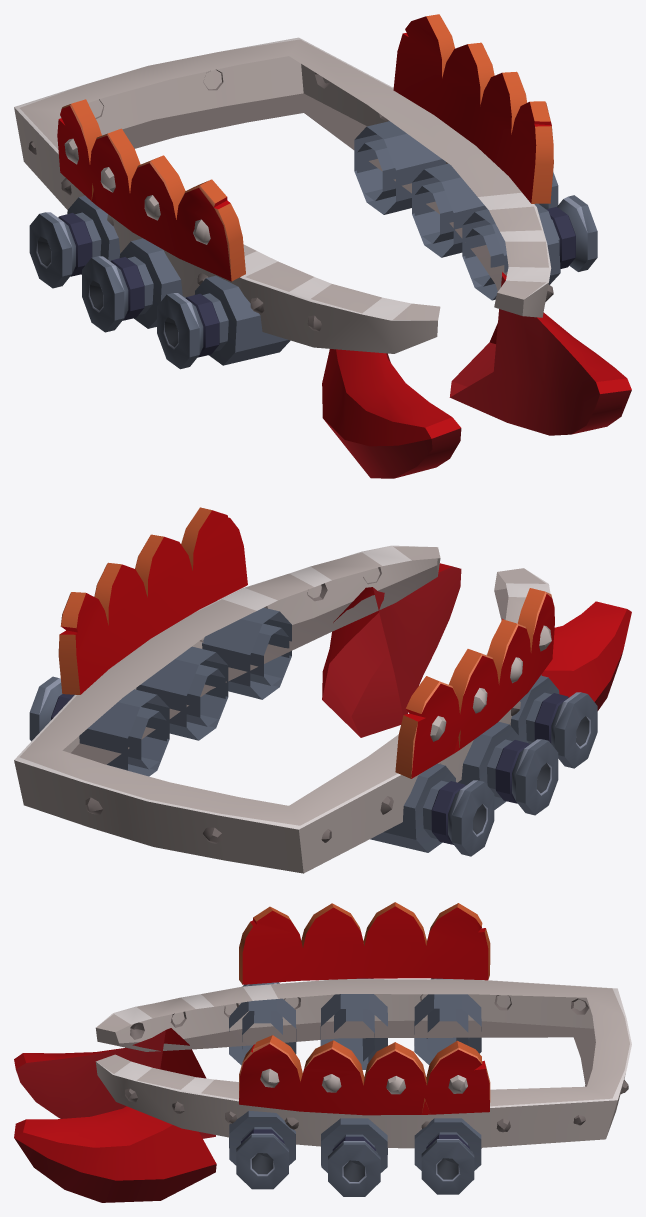
File: Armor_Medium.fbx
3 views of the same model, one above another, from view 1: azimuth 30°, elevation 25°; view 2: azimuth 150°, elevation 25°; view 3: azimuth 270°, elevation 25° (orthographic). The views are drawn at different scales.
Visible parts, largest first — view 1: Armor_Color_15, Armor_Color_16, Armor_Color_17, Armor_Color_18, Armor_Color_12, Armor_Color_13, Armor_Color_14; view 2: Armor_Color_15, Armor_Color_16, Armor_Color_17, Armor_Color_13, Armor_Color_18, Armor_Color_12, Armor_Color_14; view 3: Armor_Color_15, Armor_Color_16, Armor_Color_12, Armor_Color_13, Armor_Color_18, Armor_Color_17, Armor_Color_14.
Boxes of the visible parts, x1,y1,x2,y2 form: Armor_Color_15: (14, 37, 551, 353); Armor_Color_16: (322, 272, 631, 478); Armor_Color_17: (29, 195, 290, 369); Armor_Color_18: (354, 121, 597, 300); Armor_Color_12: (57, 99, 245, 281); Armor_Color_13: (393, 14, 553, 203); Armor_Color_14: (28, 69, 553, 331); Armor_Color_15: (14, 545, 550, 873); Armor_Color_16: (322, 563, 631, 737); Armor_Color_17: (370, 675, 597, 856); Armor_Color_13: (58, 507, 247, 694); Armor_Color_18: (29, 607, 291, 776); Armor_Color_12: (395, 588, 554, 778); Armor_Color_14: (85, 567, 541, 843); Armor_Color_15: (95, 979, 631, 1148); Armor_Color_16: (14, 1028, 216, 1202); Armor_Color_12: (239, 902, 490, 984); Armor_Color_13: (239, 1035, 490, 1115); Armor_Color_18: (229, 1110, 481, 1196); Armor_Color_17: (229, 978, 481, 1069); Armor_Color_14: (125, 994, 628, 1132).
Bounding box in the file's own units: 17.38 × 8.89 × 25.77.
